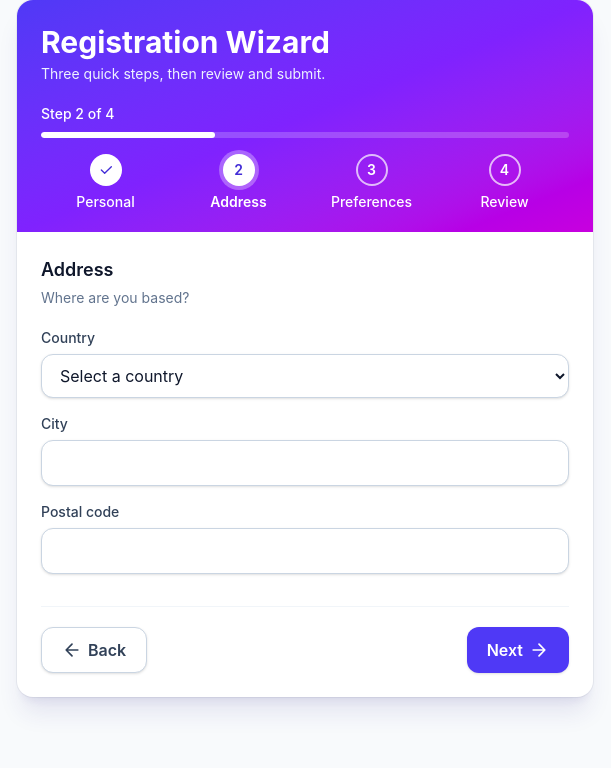
it: WizardPage › requires a 6-digit postal code for India only
This screenshot has width=611, height=768.
Select "India" in the dropdown labelled "Country" at {"x": 305, "y": 376}, box [41,354,569,398]
Type "Kochi" into the field labelled "City".
click(305, 463); type("Kochi")  # box [41,440,569,486]
Type "68200" into the field labelled "Postal code".
click(305, 551); type("68200")  # box [41,528,569,574]
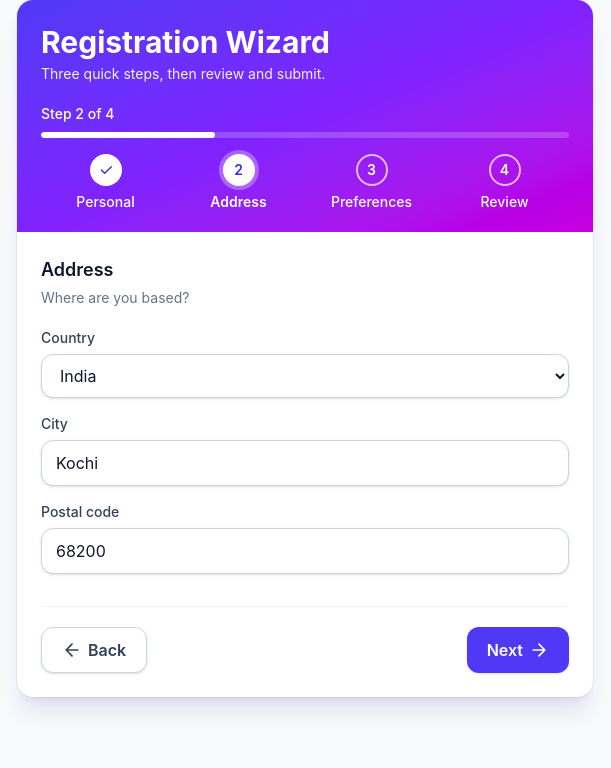
Click the button "Next".
click(518, 650)  # box [467,627,569,673]
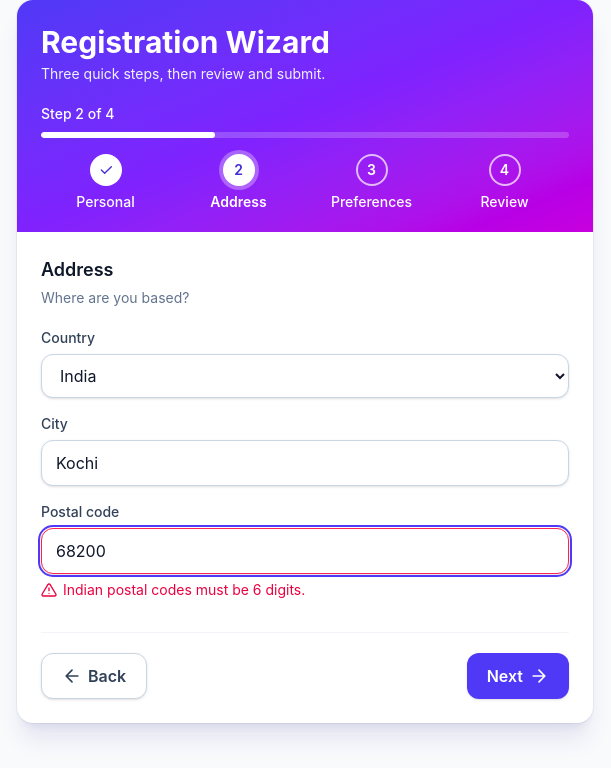
Expected: the heading "Address" is shown, [41,259,114,280]
Select "Germany" in the dropdown labelled "Country" at {"x": 305, "y": 376}, box [41,354,569,398]
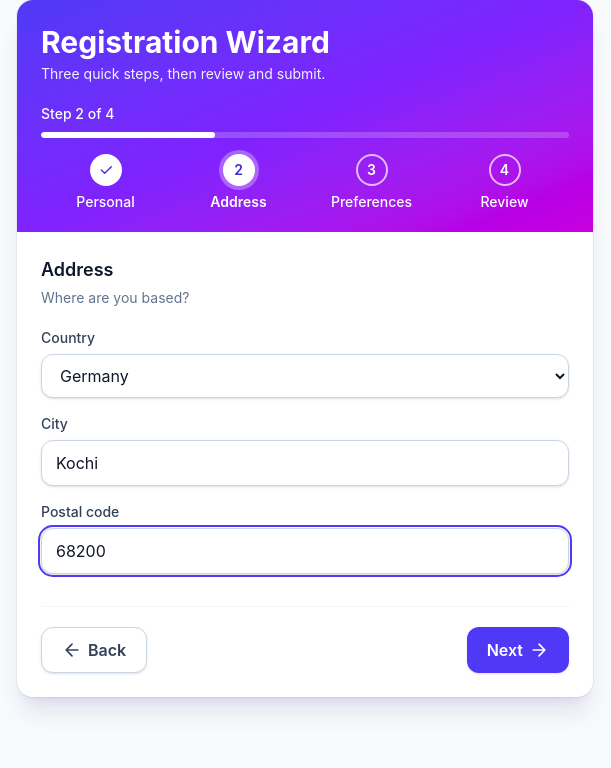
Now the text "Indian postal codes must be 6 digits." is gone
Select "India" in the dropdown labelled "Country" at {"x": 305, "y": 376}, box [41,354,569,398]
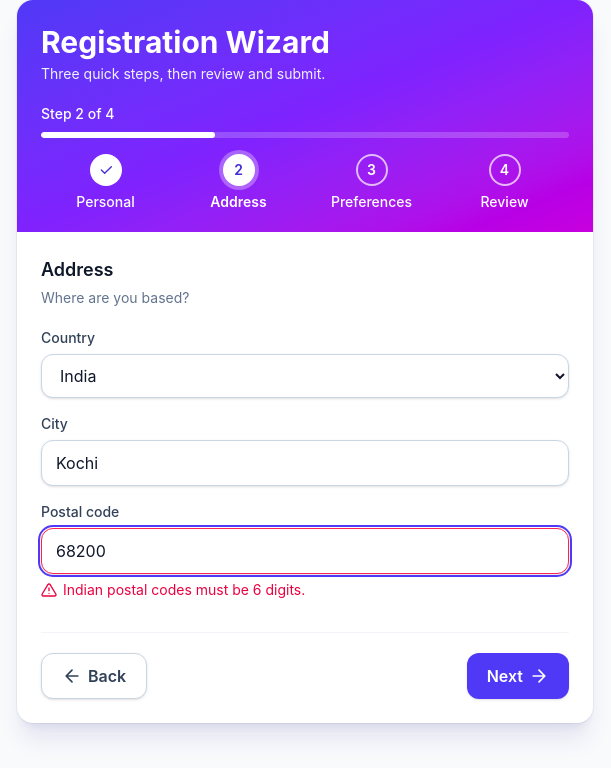
Replace the text in the field labelled "Postal code" with "682001" at {"x": 305, "y": 551}, box [41,528,569,574]
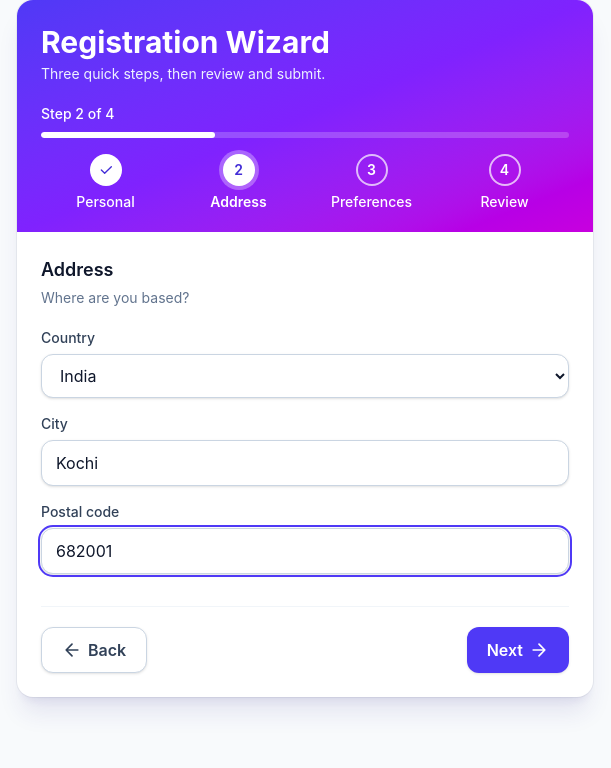
Click the button "Next".
click(518, 650)  # box [467,627,569,673]
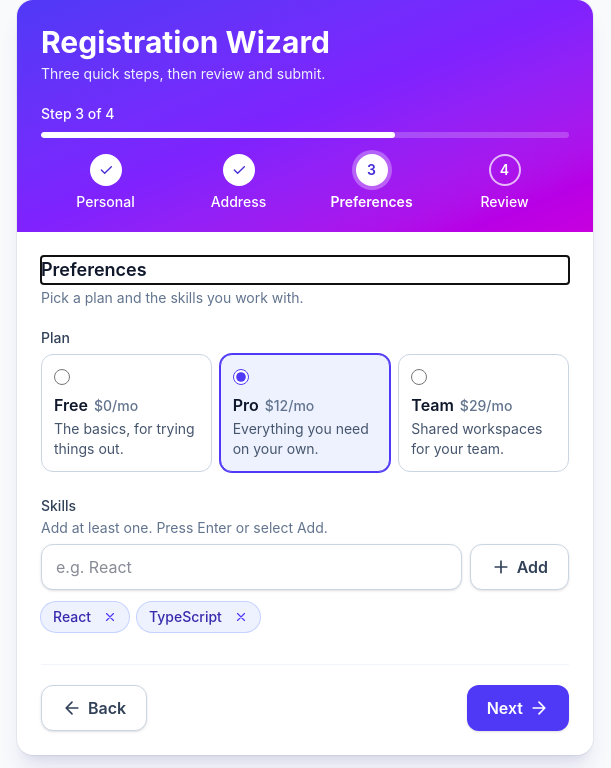
Now the heading "Preferences" is shown, box [41,259,147,280]
